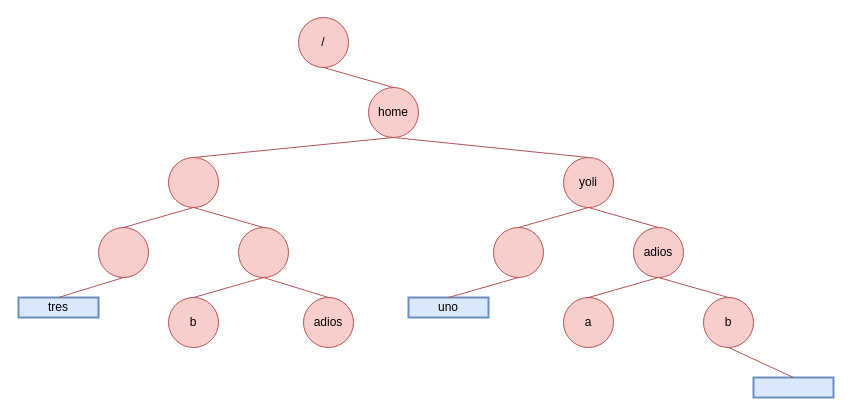
This 851x416 diagram has some shape labels left out. Here are the shapes that lost their labels. From the top down, the centre of each, then its label:
(193,182): colado29
(123,252): otro
(263,252): nuevo
(518,252): Hola
(793,387): dos
